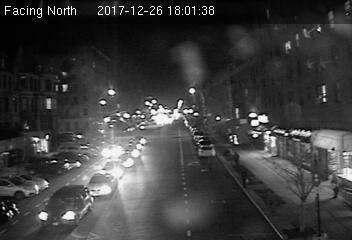car: (35, 184, 94, 227), (84, 171, 117, 199), (101, 159, 124, 178), (117, 152, 137, 169), (101, 144, 120, 157), (197, 144, 215, 157)
